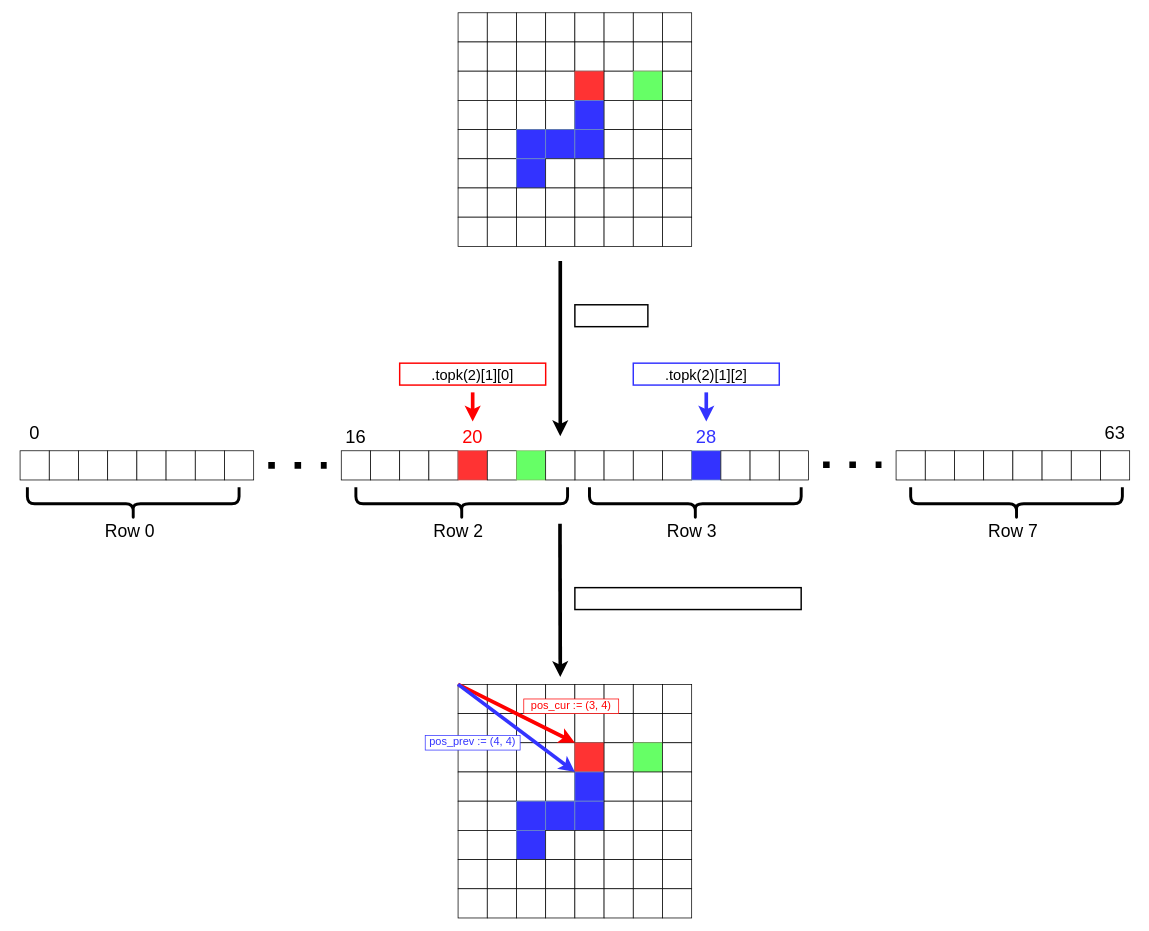
The diagram is 1149 pixels wide and 931 high, and some of its shapes have lost their labels. The shapes that lost their labels are listed below. From the top down, each one's centre as x and y in pixels, then its label:
At (x=611, y=315): ".flatten()".
At (x=688, y=598): "unravel(result, encoding.shape)".
